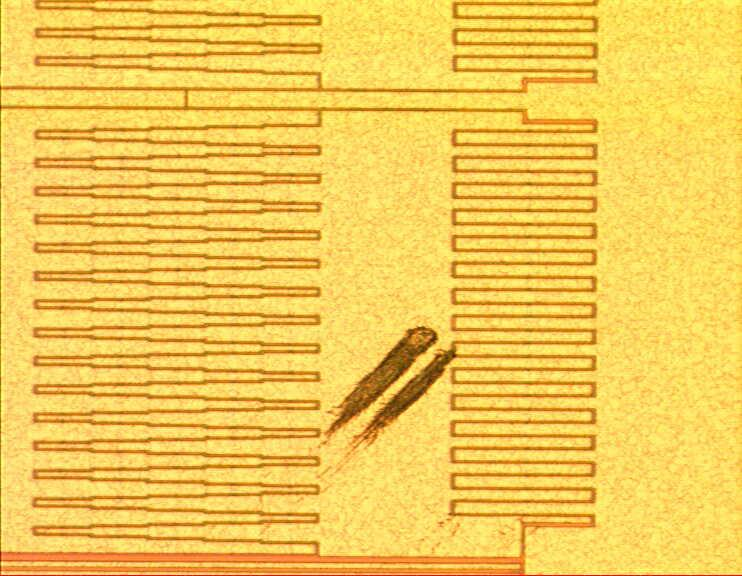SCRATCH: (237, 324, 467, 555)
